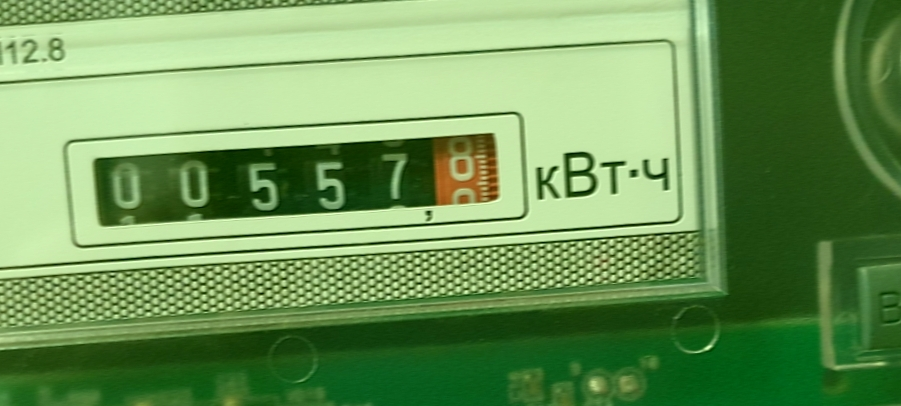0: (105, 154, 144, 213), (173, 154, 211, 209)
5: (308, 151, 350, 212), (242, 155, 281, 214)
7: (373, 145, 411, 203)
8: (444, 132, 476, 184)
screen: (56, 90, 534, 262)
